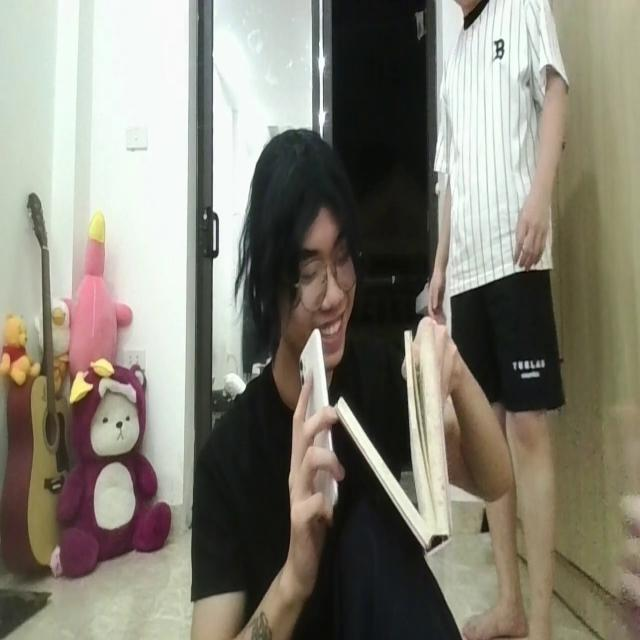book: (336, 317, 451, 561)
extra_person: (426, 0, 574, 640)
phone: (297, 319, 340, 524)
student: (191, 123, 511, 640)
